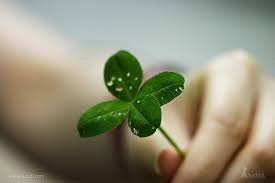4-clover: (75, 51, 184, 141)
